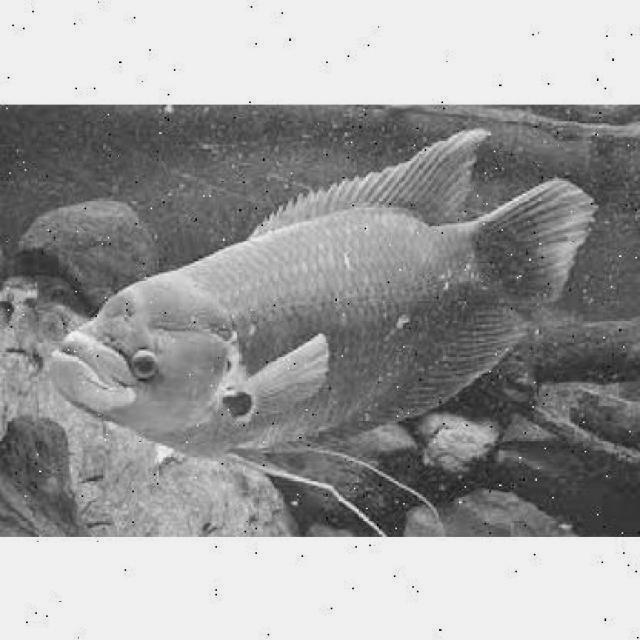gurame: (48, 138, 586, 511)
